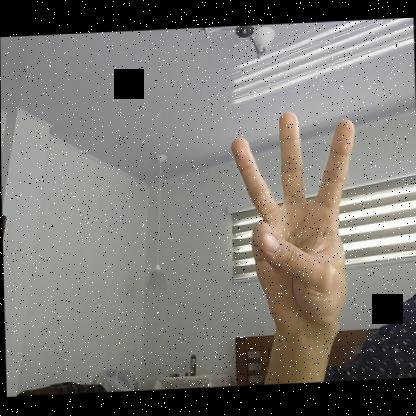W: (226, 107, 360, 340)
